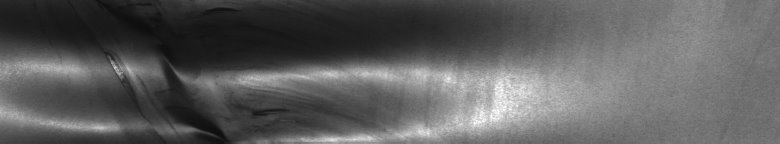ke: (41, 52, 375, 136)
